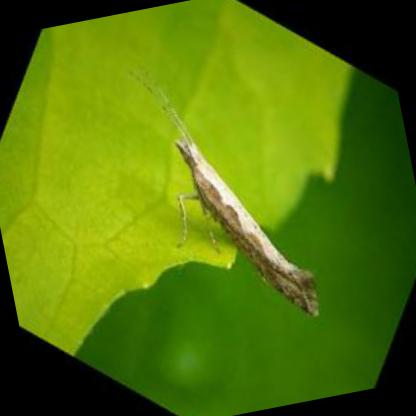plutella: (126, 67, 326, 327)
